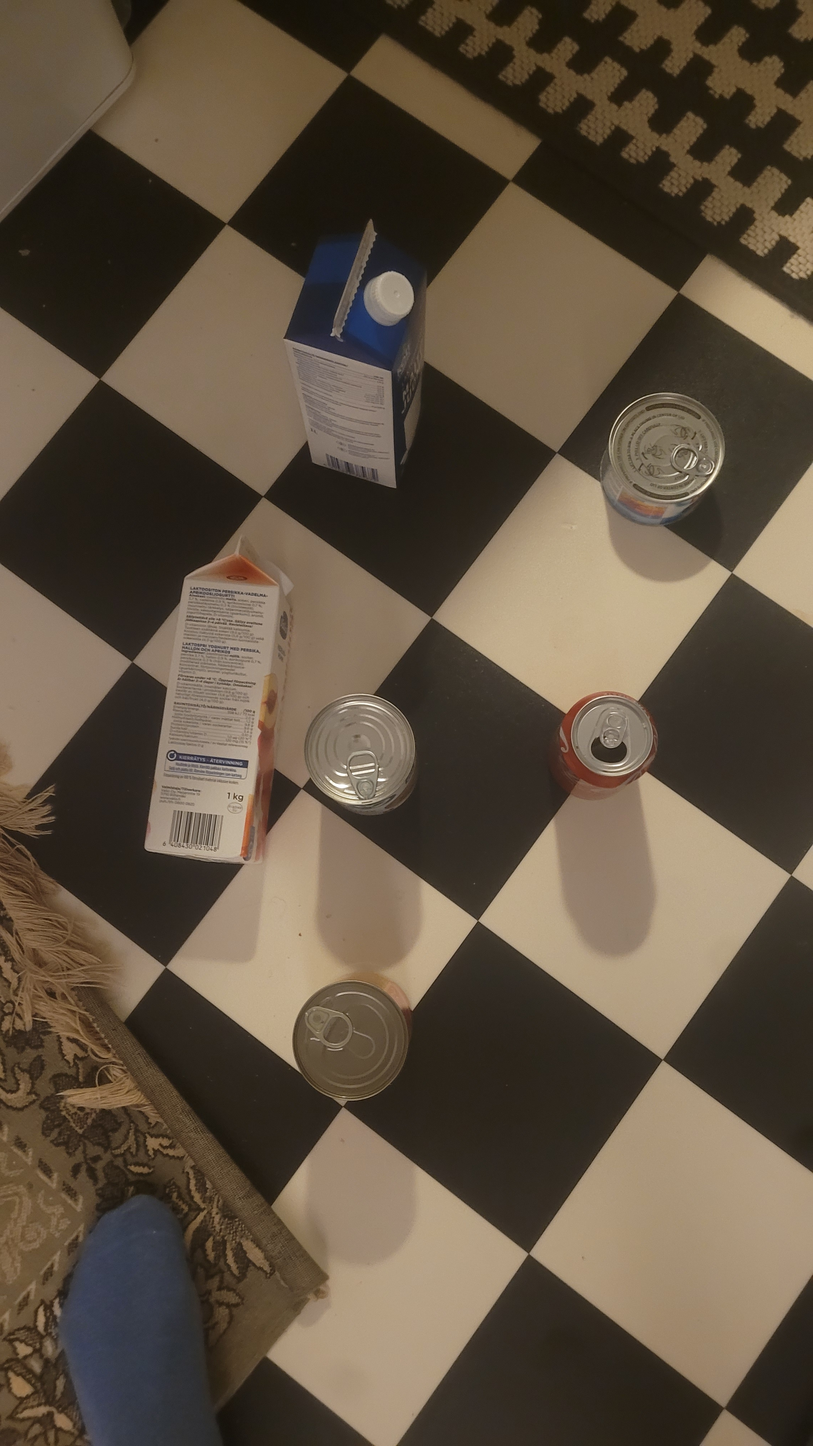Dryckeskartong: (144, 535, 295, 865), (284, 219, 430, 490)
Konservburk: (600, 391, 727, 526), (291, 969, 414, 1101), (303, 694, 418, 817)
Pantburk: (552, 690, 658, 801)
